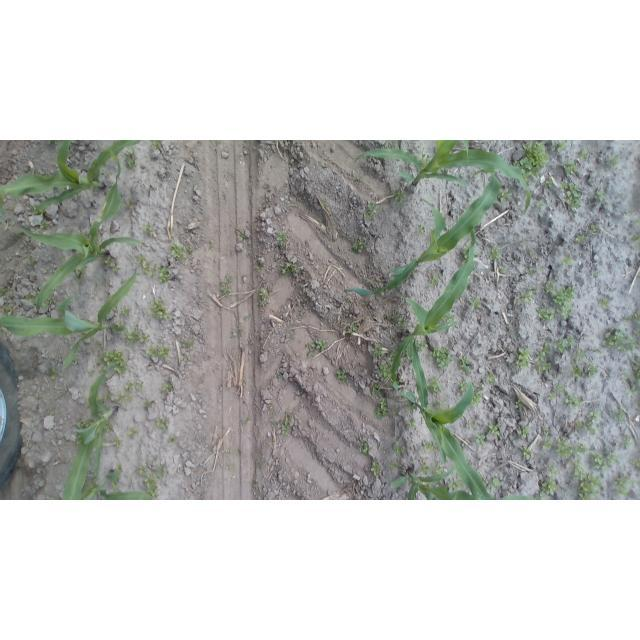Maize: (18, 148, 144, 312), (344, 167, 499, 298), (387, 225, 480, 400), (406, 335, 495, 500), (1, 268, 137, 372), (355, 142, 533, 207), (1, 141, 141, 219), (62, 357, 118, 500), (391, 461, 540, 500), (77, 469, 158, 499)
Weeds: (517, 142, 549, 176), (573, 405, 605, 435), (602, 329, 640, 352), (553, 285, 575, 321), (575, 471, 602, 500), (566, 452, 585, 478), (566, 182, 583, 210), (150, 299, 171, 320), (592, 451, 615, 470), (103, 351, 126, 370), (616, 475, 635, 498), (431, 349, 451, 370), (554, 335, 575, 353), (124, 326, 145, 343), (255, 286, 269, 311), (139, 254, 155, 275), (145, 344, 169, 358), (556, 437, 571, 458), (280, 262, 302, 276), (357, 437, 373, 456), (515, 348, 530, 368), (146, 475, 159, 498), (520, 288, 537, 305), (374, 398, 388, 418), (234, 224, 248, 244), (540, 478, 557, 494), (158, 379, 174, 396), (516, 424, 533, 440), (632, 351, 640, 385), (427, 378, 444, 394), (124, 151, 139, 169), (537, 307, 555, 322), (281, 411, 292, 435), (170, 243, 185, 259), (563, 160, 579, 175), (158, 264, 170, 284), (365, 203, 379, 220), (368, 461, 382, 478), (565, 394, 582, 408), (459, 356, 472, 374), (221, 276, 232, 297), (561, 254, 576, 269), (226, 325, 242, 339), (352, 237, 366, 253), (311, 340, 325, 355), (553, 381, 568, 395), (487, 476, 502, 490), (538, 342, 551, 358), (268, 411, 280, 428), (141, 220, 156, 233), (468, 297, 483, 310), (573, 348, 586, 363), (304, 342, 316, 358), (379, 362, 391, 378), (116, 393, 133, 404), (623, 311, 640, 322), (371, 344, 385, 357), (239, 415, 253, 428), (448, 477, 462, 490), (149, 140, 164, 152), (628, 383, 640, 398), (420, 460, 431, 476), (416, 223, 427, 239), (586, 364, 599, 377), (101, 256, 114, 269), (124, 196, 136, 210), (406, 401, 418, 415), (513, 397, 525, 411), (534, 199, 546, 213), (573, 445, 588, 456), (181, 339, 196, 350), (127, 425, 138, 440), (76, 418, 92, 428), (300, 283, 308, 303), (392, 441, 404, 454), (416, 338, 428, 351), (405, 417, 417, 430), (628, 233, 640, 246), (538, 361, 552, 372), (429, 273, 440, 287), (553, 141, 567, 152), (155, 464, 166, 478), (465, 416, 476, 430), (619, 367, 630, 381), (277, 231, 288, 245), (570, 365, 582, 377), (430, 399, 446, 408), (613, 409, 626, 420), (609, 155, 620, 167), (599, 297, 611, 308), (541, 440, 553, 451), (336, 370, 347, 382), (142, 401, 154, 412), (253, 259, 264, 271), (488, 424, 500, 435), (501, 189, 511, 202), (472, 393, 482, 406), (394, 190, 404, 203), (273, 368, 283, 381), (442, 312, 455, 322), (572, 233, 585, 243), (49, 367, 58, 381), (548, 466, 559, 477), (243, 311, 254, 322), (2, 305, 14, 315), (491, 247, 501, 259), (595, 189, 605, 201), (27, 255, 37, 267), (632, 455, 640, 470), (545, 281, 555, 293), (396, 316, 406, 328), (287, 328, 296, 341), (559, 179, 567, 193), (533, 492, 547, 500), (545, 177, 555, 188), (157, 418, 167, 429), (369, 384, 379, 395), (420, 153, 431, 163), (39, 219, 50, 229), (212, 141, 222, 152), (74, 434, 84, 445), (389, 459, 400, 469), (497, 265, 508, 275), (319, 200, 330, 210), (458, 380, 467, 392), (32, 207, 44, 216), (477, 434, 486, 446), (50, 404, 59, 416), (486, 373, 496, 383), (348, 322, 358, 332), (185, 245, 195, 255), (141, 333, 151, 343), (114, 463, 124, 473), (541, 425, 551, 435), (424, 442, 435, 451), (590, 224, 599, 235), (523, 449, 532, 460), (78, 267, 87, 278), (92, 342, 103, 351), (136, 381, 145, 392), (122, 305, 131, 316), (463, 245, 470, 259), (126, 381, 135, 391), (113, 436, 122, 446), (434, 464, 443, 474), (579, 149, 588, 159), (470, 170, 480, 179), (111, 265, 121, 274), (226, 445, 235, 455), (343, 295, 353, 304), (296, 384, 305, 394), (391, 408, 401, 417), (505, 324, 515, 333), (622, 437, 630, 448), (258, 459, 266, 470), (592, 268, 600, 279), (632, 216, 640, 227), (1, 286, 8, 298), (139, 466, 148, 475), (225, 462, 234, 471), (354, 386, 363, 395), (524, 266, 533, 275), (60, 252, 68, 262), (109, 482, 119, 490), (546, 393, 554, 403), (208, 238, 214, 251), (25, 294, 36, 301), (95, 355, 102, 366), (105, 423, 113, 432), (267, 400, 275, 409), (506, 362, 514, 371), (519, 236, 527, 245), (527, 246, 535, 255), (626, 208, 635, 216), (262, 182, 271, 190), (45, 141, 59, 146), (43, 301, 50, 311), (88, 368, 96, 376), (167, 434, 175, 442), (592, 347, 600, 355), (241, 379, 248, 388), (183, 353, 189, 363), (478, 381, 485, 389), (386, 315, 394, 322), (6, 205, 13, 213), (103, 393, 110, 401), (152, 454, 159, 462), (252, 480, 258, 489), (536, 266, 546, 271), (374, 279, 381, 286), (267, 326, 274, 333), (321, 162, 329, 168), (356, 174, 362, 182), (635, 406, 640, 415), (104, 171, 111, 177), (47, 298, 53, 305), (535, 452, 541, 458), (265, 385, 270, 391), (353, 167, 355, 178)
